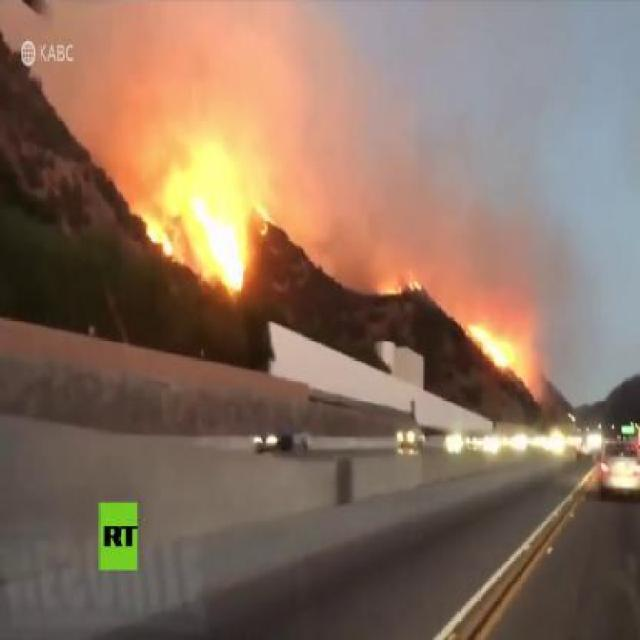Fire: (136, 132, 276, 305), (466, 324, 516, 370), (409, 276, 422, 292), (378, 286, 397, 296)
